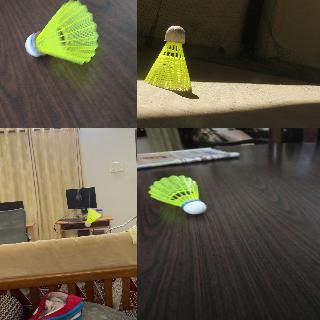shuttlecock: (26, 0, 99, 66), (144, 26, 190, 88), (148, 175, 206, 214), (85, 208, 101, 226)
